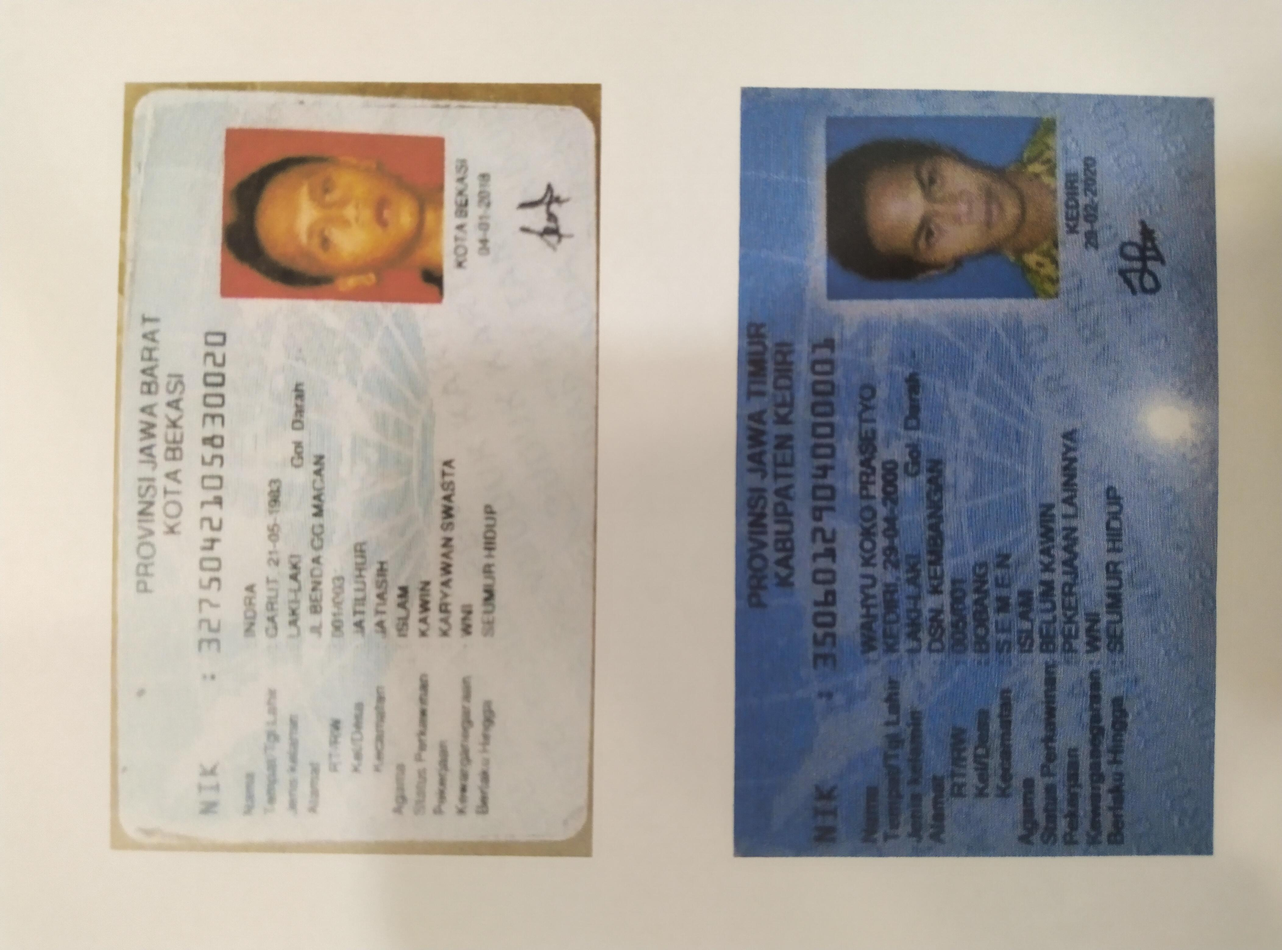ID-card: (124, 543, 1146, 894), (147, 78, 1135, 425)
